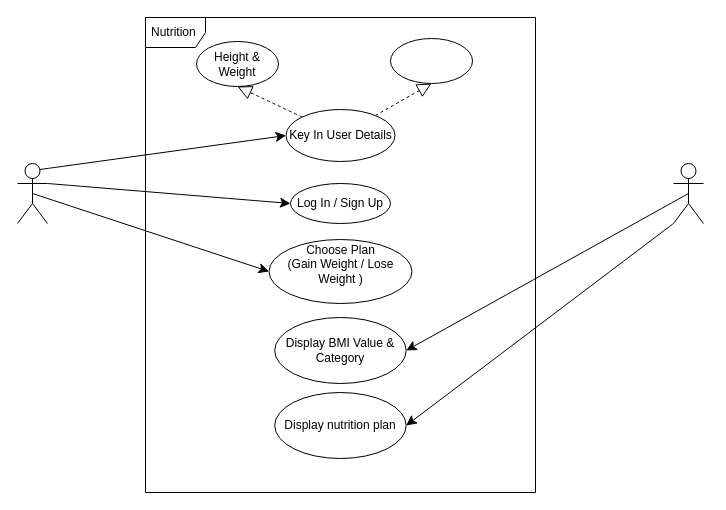
Image size: 726x510. Some labels were removed from this diagram. Here are the shapes that lost their labels. From the top down, the centre of each, then its label:
(x=431, y=61): Age, Goals
(x=32, y=193): User
(x=688, y=193): System
